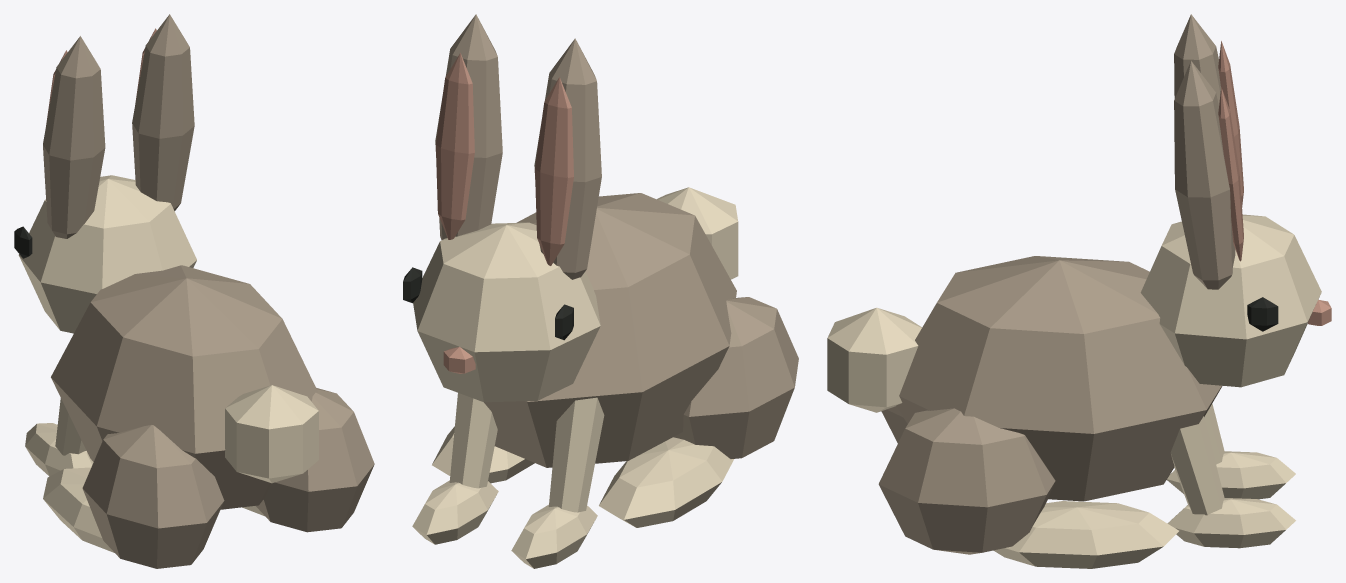
Rendered from Rabbit.fbx.
3 renders of one model, left to right at view 1: azimuth 30°, elevation 25°; view 2: azimuth 150°, elevation 25°; view 3: azimuth 270°, elevation 25°, orthographic. The views are drawn at different scales.
Visible parts, largest first — view 1: FA_Rabbit; view 2: FA_Rabbit; view 3: FA_Rabbit.
Part boxes in pixels (left/top/right/bottom): FA_Rabbit: left=14, top=14, right=374, bottom=568; FA_Rabbit: left=403, top=14, right=798, bottom=568; FA_Rabbit: left=827, top=14, right=1331, bottom=568.
Size of the model in its own units: 1.11 by 1.85 by 1.74.
